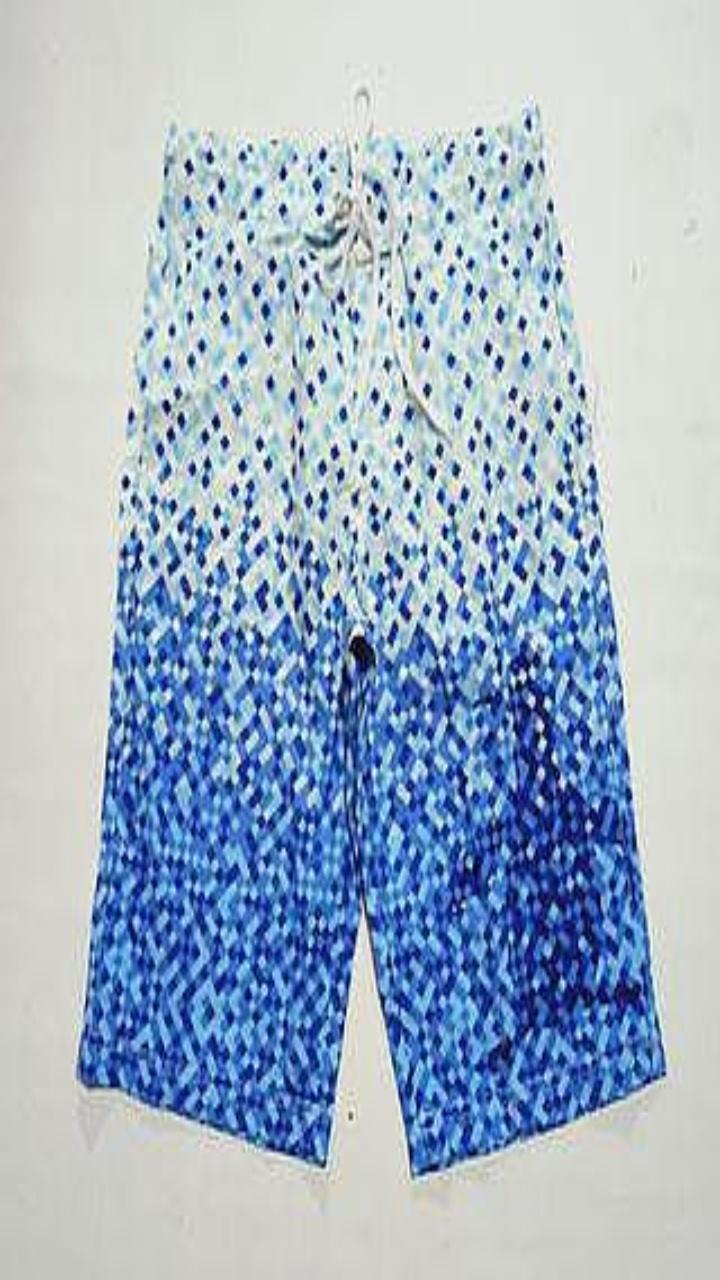Shorts: (77, 101, 665, 1175)
